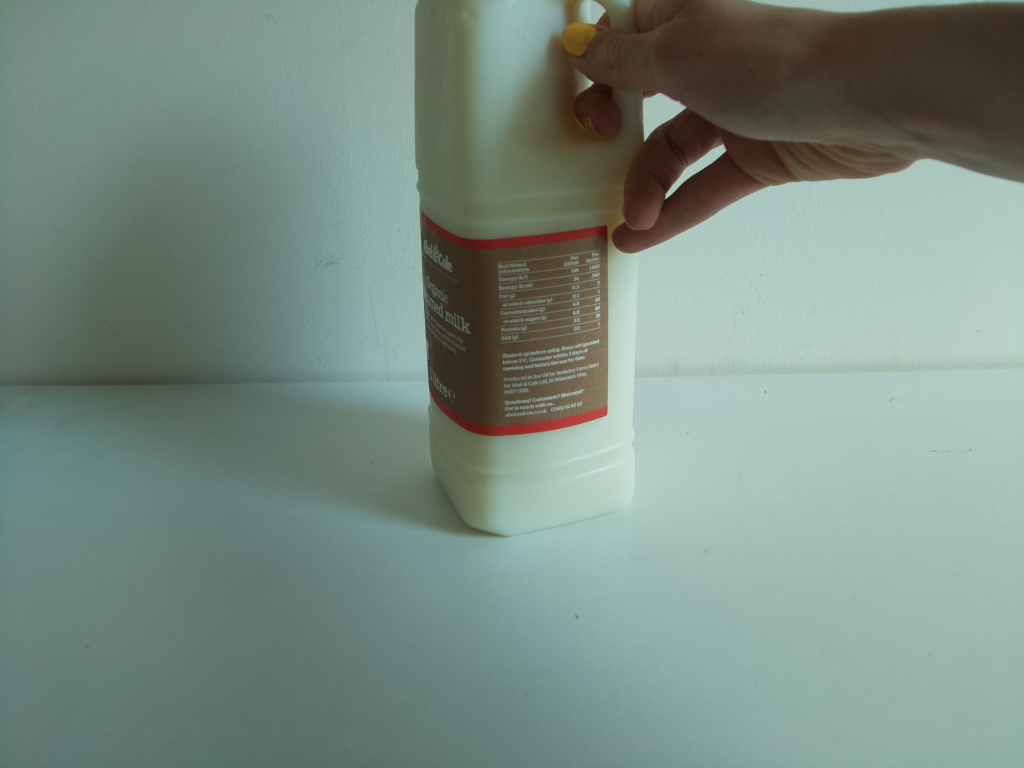milk: (410, 1, 649, 542)
